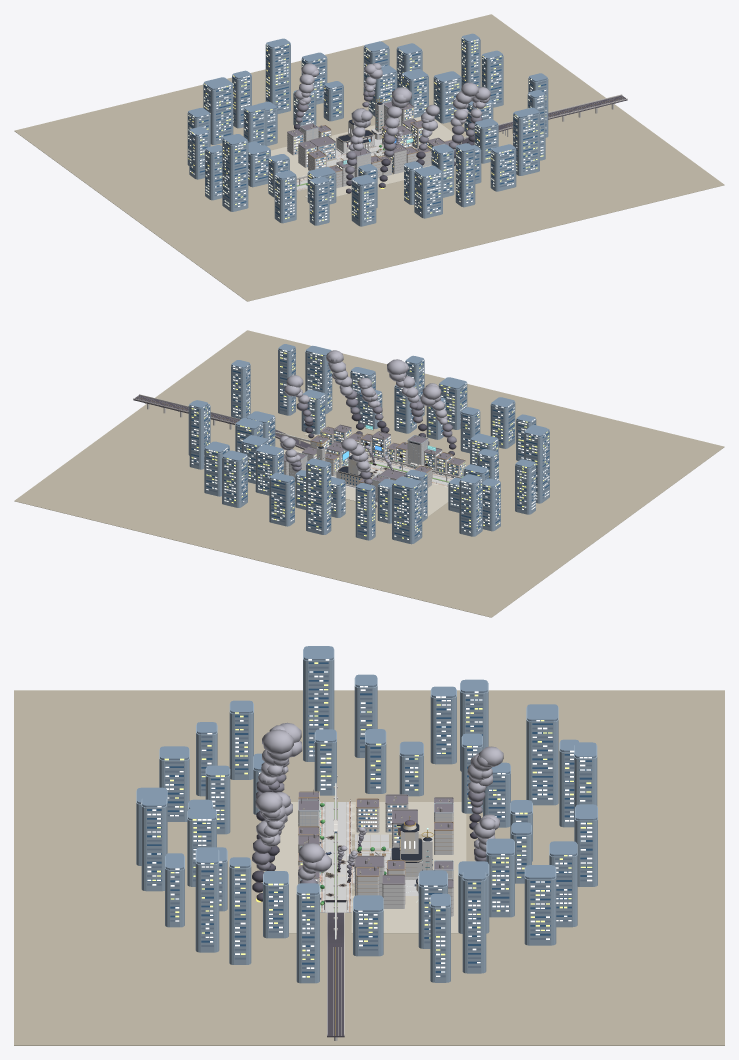
File: act1_cityhall.glb
3 renders of one model, top to bottom at view 1: azimuth 30°, elevation 25°; view 2: azimuth 150°, elevation 25°; view 3: azimuth 270°, elevation 25°, orthographic. The views are drawn at different scales.
Parts seen in each view (by area): view 1: skyline_pave_d_fine, skyline_far_far, skyline_far_d_far, skyline_far_d_fine, skyline_glass_d_fine, smoke_a1_smoke_l_fine, GLOW_d3_win_lit_fine, smoke_a1_smoke_m_fine, north_pave, GLOW_d3_a1_win_cool_fine, GLOW_d3_a1_win_amber_fine, avenue_asphalt (+3 smaller); view 2: skyline_pave_d_fine, skyline_far_far, skyline_far_d_far, skyline_far_d_fine, skyline_glass_d_fine, smoke_a1_smoke_l_fine, GLOW_d3_win_lit_fine, smoke_a1_smoke_m_fine, GLOW_d3_a1_win_amber_fine, GLOW_d3_a1_win_cool_fine, north_pave, south_roof_detail (+2 smaller); view 3: skyline_pave_d_fine, skyline_far_far, skyline_far_d_far, smoke_a1_smoke_l_fine, skyline_far_d_fine, skyline_glass_d_fine, north_pave, GLOW_d3_win_lit_fine, avenue_asphalt, COL_avenue_064, GLOW_d3_a1_win_amber_fine, smoke_a1_smoke_m_fine (+4 smaller).
Part boxes in pixels (box(x1,y1,x2,y2)): skyline_pave_d_fine: box(14, 14, 724, 301); skyline_far_far: box(187, 37, 548, 226); skyline_far_d_far: box(188, 33, 547, 185); skyline_far_d_fine: box(188, 43, 546, 222); skyline_glass_d_fine: box(188, 40, 546, 219); smoke_a1_smoke_l_fine: box(294, 63, 490, 151); GLOW_d3_win_lit_fine: box(188, 38, 546, 221); smoke_a1_smoke_m_fine: box(295, 90, 482, 174); north_pave: box(271, 116, 455, 198); GLOW_d3_a1_win_cool_fine: box(188, 40, 546, 221); GLOW_d3_a1_win_amber_fine: box(188, 40, 546, 220); avenue_asphalt: box(458, 95, 627, 144); skyline_pave_d_fine: box(14, 330, 724, 617); skyline_far_far: box(188, 347, 549, 544); skyline_far_d_far: box(189, 344, 549, 491); skyline_far_d_fine: box(191, 350, 549, 539); skyline_glass_d_fine: box(191, 353, 549, 536); smoke_a1_smoke_l_fine: box(279, 350, 447, 472); GLOW_d3_win_lit_fine: box(191, 350, 549, 539); smoke_a1_smoke_m_fine: box(290, 390, 456, 484); GLOW_d3_a1_win_amber_fine: box(191, 352, 549, 538); GLOW_d3_a1_win_cool_fine: box(191, 349, 549, 536); north_pave: box(284, 433, 466, 516); south_roof_detail: box(321, 425, 464, 464); skyline_pave_d_fine: box(14, 690, 724, 1045); skyline_far_far: box(136, 649, 597, 983); skyline_far_d_far: box(137, 646, 597, 911); smoke_a1_smoke_l_fine: box(255, 722, 503, 880); skyline_far_d_fine: box(147, 666, 592, 977); skyline_glass_d_fine: box(147, 662, 592, 973); north_pave: box(272, 802, 466, 933); GLOW_d3_win_lit_fine: box(141, 659, 592, 977); avenue_asphalt: box(327, 912, 344, 1037); COL_avenue_064: box(325, 802, 346, 912); GLOW_d3_a1_win_amber_fine: box(152, 662, 592, 977); smoke_a1_smoke_m_fine: box(252, 774, 486, 883).
Bounding box in the file's own units: 526 × 95.07 × 440.
